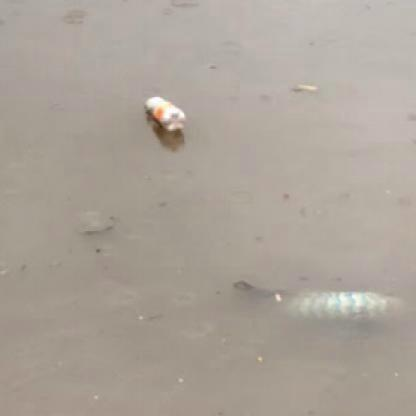Plastic: (142, 90, 190, 136)
